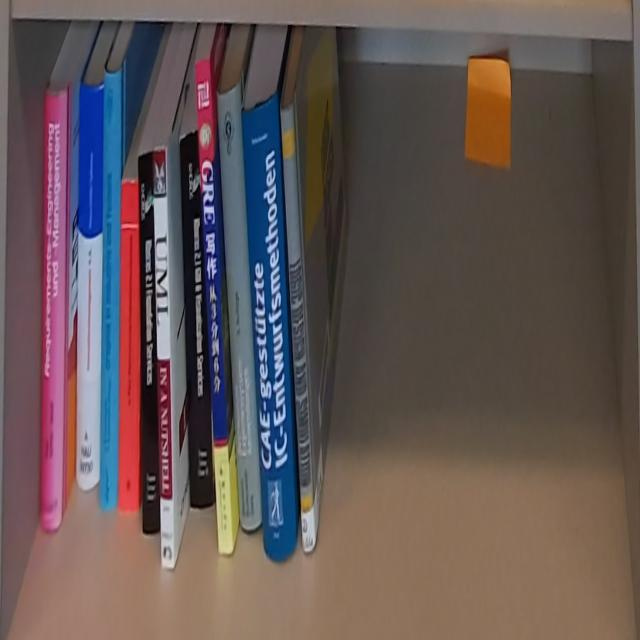Book Spine: (242, 90, 296, 563), (217, 74, 262, 531), (196, 57, 233, 555), (281, 95, 315, 553), (40, 89, 70, 534), (179, 131, 214, 507), (76, 83, 104, 491), (100, 67, 123, 512), (139, 150, 160, 534), (155, 149, 174, 569), (118, 180, 139, 511)
